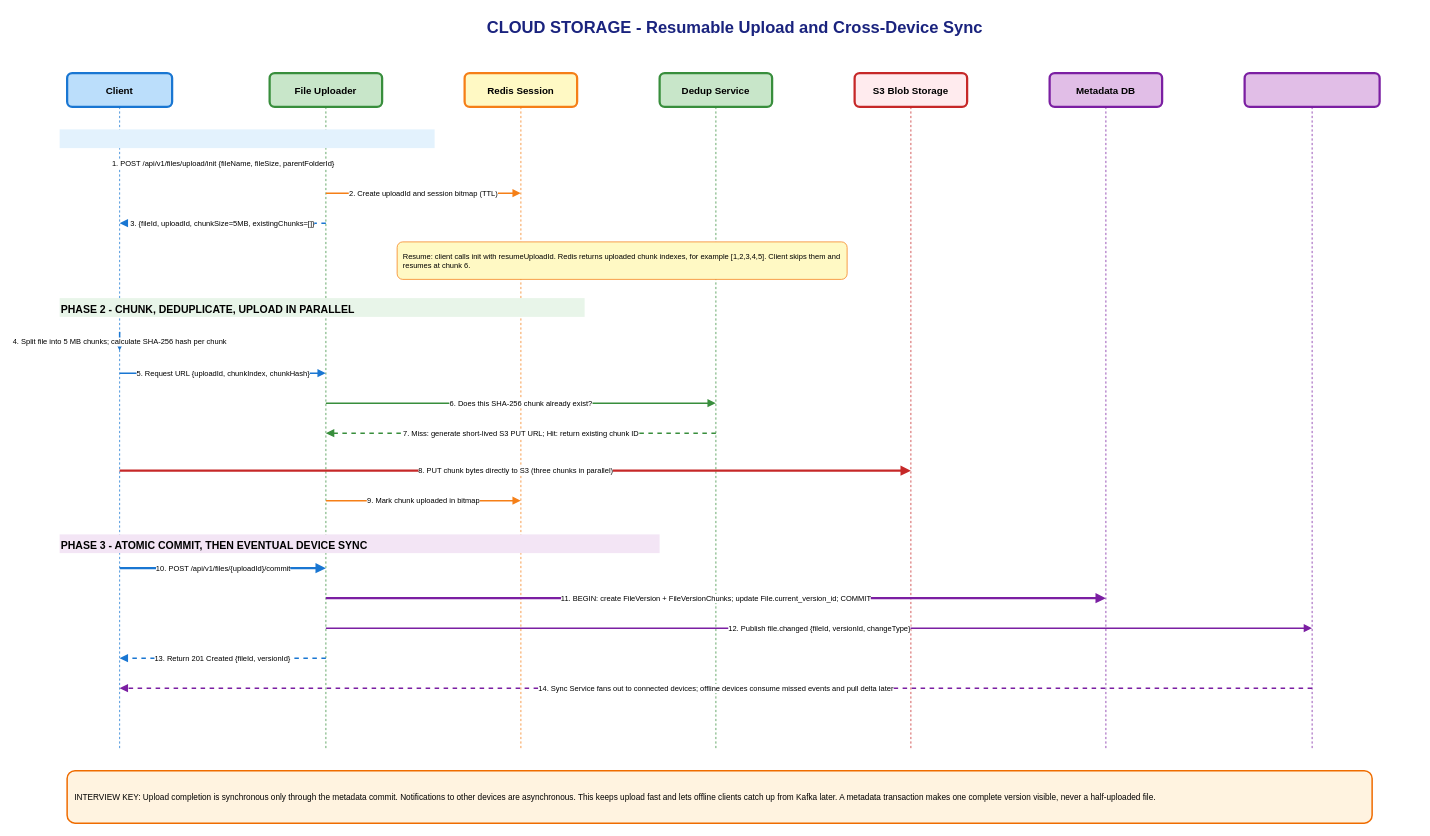
Some shapes in this 1430 by 836 pixel diagram are drawn without their labels. Here are the shapes that lost their labels. From the top down, the centre of each, then its label:
At pixel 1311 90: "Kafka + Sync Service".
At pixel 246 138: "PHASE 1 - INITIATE AND RESUME".
